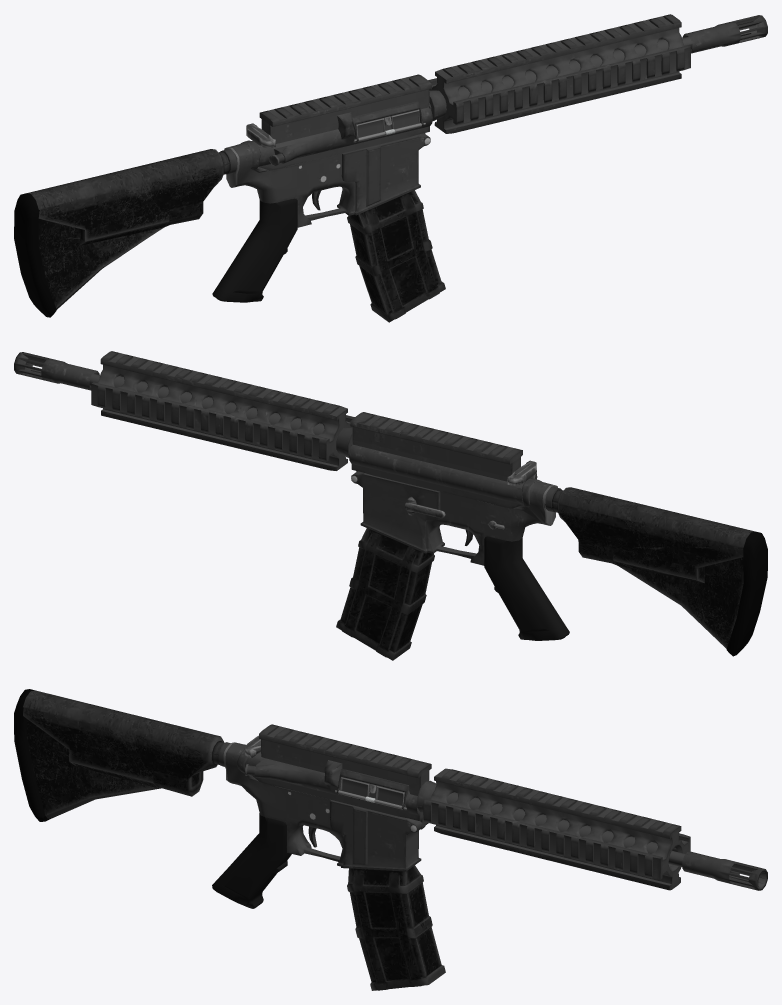
Rendered from rifle_m4.glb.
3 renders of one model, top to bottom at view 1: azimuth 30°, elevation 25°; view 2: azimuth 150°, elevation 25°; view 3: azimuth 330°, elevation 25°, orthographic.
Visible parts, largest first — view 1: pCylinder3; view 2: pCylinder3; view 3: pCylinder3.
Part boxes in pixels (x1,y1,x2,y2): pCylinder3: (14, 14, 767, 322); pCylinder3: (14, 351, 767, 660); pCylinder3: (14, 689, 767, 990).
Bounding box in the file's own units: 0.2055 × 0.0605 × 0.0155.
13 materials, 9 textured.
